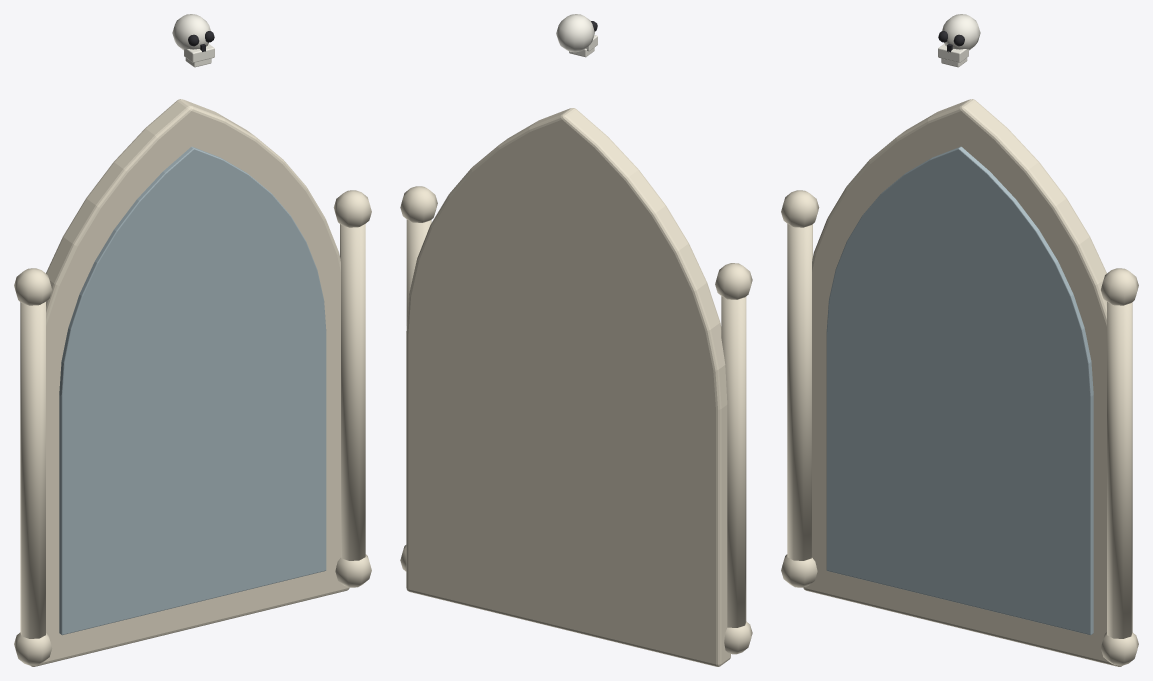
File: mirror_bone_frame.glb
The picture shows the model from 3 angles, left to right: view 1: azimuth 30°, elevation 25°; view 2: azimuth 150°, elevation 25°; view 3: azimuth 330°, elevation 25°; orthographic projection.
Visible parts, largest first — view 1: GD_mirror_bone_frame__m1, GD_mirror_bone_frame__m0, GD_mirror_bone_frame__m3; view 2: GD_mirror_bone_frame__m0, GD_mirror_bone_frame__m3; view 3: GD_mirror_bone_frame__m1, GD_mirror_bone_frame__m0, GD_mirror_bone_frame__m3.
Boxes of the visible parts, x1,y1,x2,y2 form: GD_mirror_bone_frame__m1: [59, 146, 326, 635]; GD_mirror_bone_frame__m0: [14, 99, 371, 666]; GD_mirror_bone_frame__m3: [172, 14, 214, 67]; GD_mirror_bone_frame__m0: [400, 108, 752, 666]; GD_mirror_bone_frame__m3: [556, 14, 597, 57]; GD_mirror_bone_frame__m1: [826, 146, 1093, 635]; GD_mirror_bone_frame__m0: [781, 99, 1138, 666]; GD_mirror_bone_frame__m3: [938, 14, 980, 67].
Bounding box in the file's own units: 0.775 × 1.29 × 0.0977.
